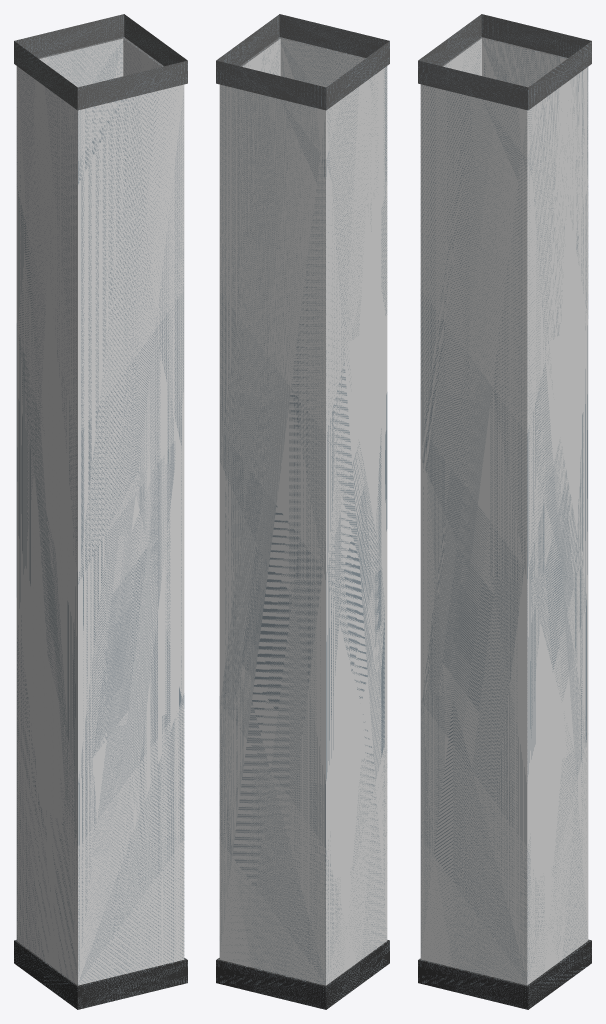
Rendered from Column_ds_plinth_050x050x4.dae.
3 renders of one model, left to right at view 1: azimuth 30°, elevation 25°; view 2: azimuth 150°, elevation 25°; view 3: azimuth 330°, elevation 25°, orthographic.
Visible parts, largest first — view 1: group_0 (×3); view 2: group_0 (×3); view 3: group_0 (×3).
Part boxes in pixels (<box>): group_0 (×3): <box>14,14,187,1009</box>; group_0 (×3): <box>216,14,389,1009</box>; group_0 (×3): <box>418,14,591,1009</box>.
Bounding box in the file's own units: 19.69 × 19.69 × 157.
